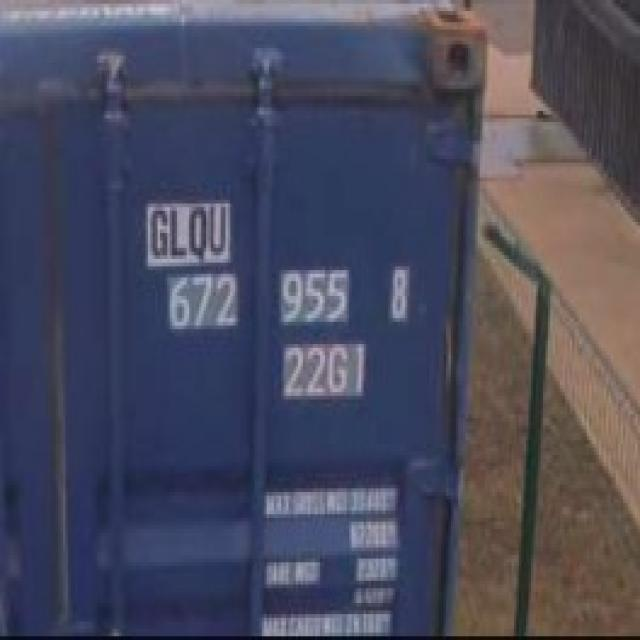dv: (388, 268, 412, 323)
owner: (146, 202, 230, 264)
serial: (167, 272, 350, 328)
size: (280, 342, 368, 401)
